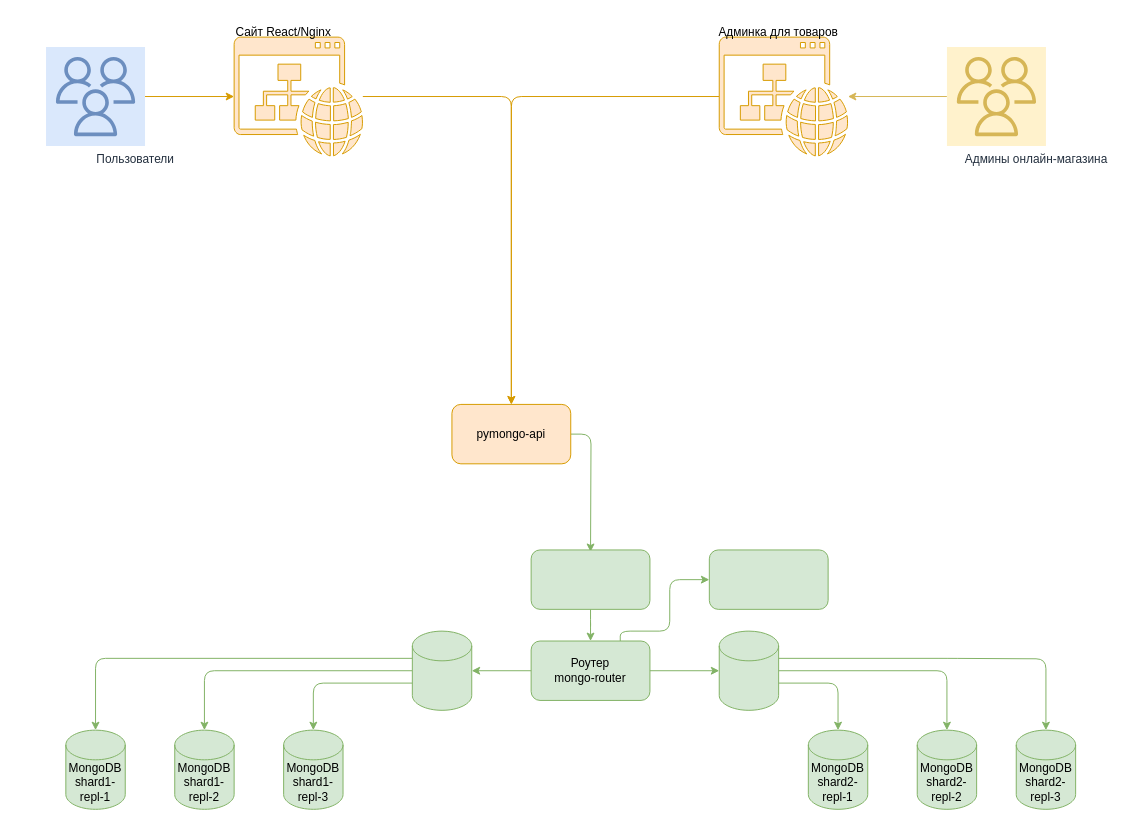
The diagram is 1124 pixels wide and 827 high, and some of its shapes have lost their labels. The centre of each missing label's shape, as x and y in pixels:
MongoDB shard1: [441,670]
MongoDB shard2: [748,670]
Драйвер: [590,579]
Конфигурационный сервер mongo-config: [768,579]
